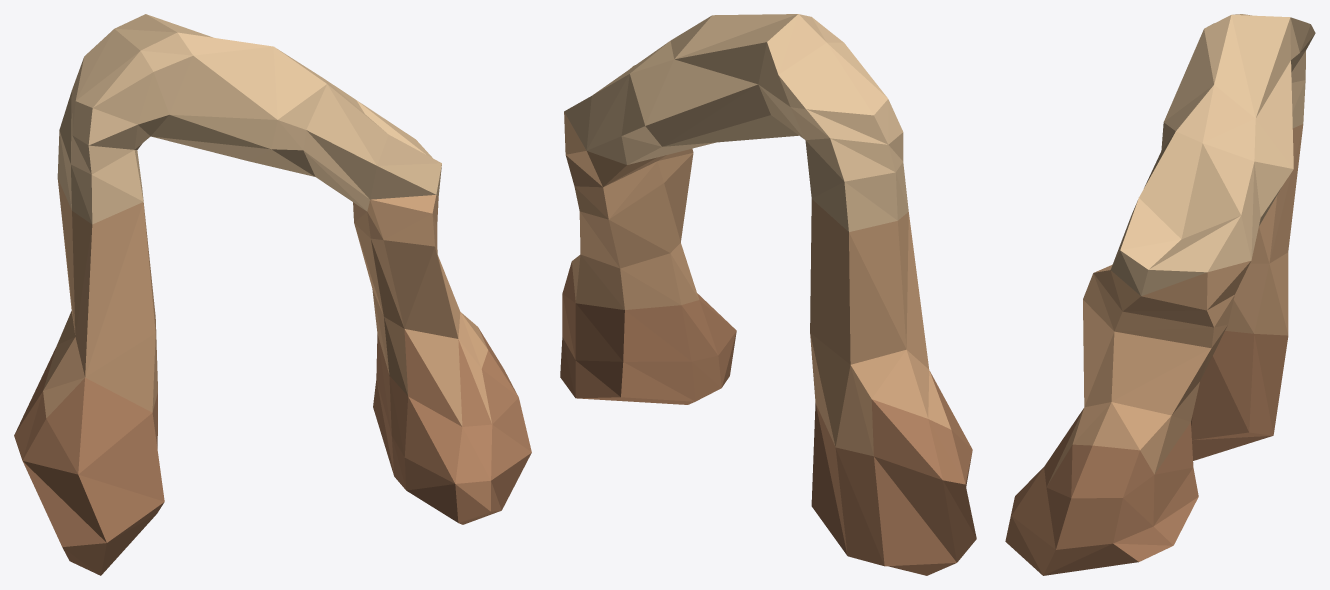
File: canyon-3-3.glb
3 views of the same model, side by side, from view 1: azimuth 30°, elevation 25°; view 2: azimuth 150°, elevation 25°; view 3: azimuth 270°, elevation 25° (orthographic). The views are drawn at different scales.
Parts seen in each view (by area): view 1: canyon-3-3; view 2: canyon-3-3; view 3: canyon-3-3.
Part boxes in pixels (x1,y1,x2,y2): canyon-3-3: (14, 14, 531, 575); canyon-3-3: (560, 14, 976, 575); canyon-3-3: (1005, 14, 1315, 575).
Bounding box in the file's own units: 24.96 × 28 × 15.97.
